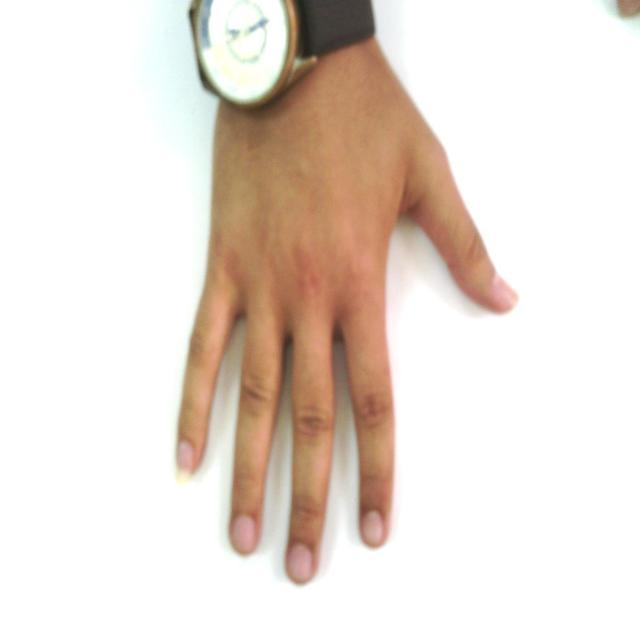Fingernail: (233, 516, 256, 554), (289, 545, 312, 582), (363, 512, 383, 546), (177, 441, 194, 480), (496, 277, 518, 305)
